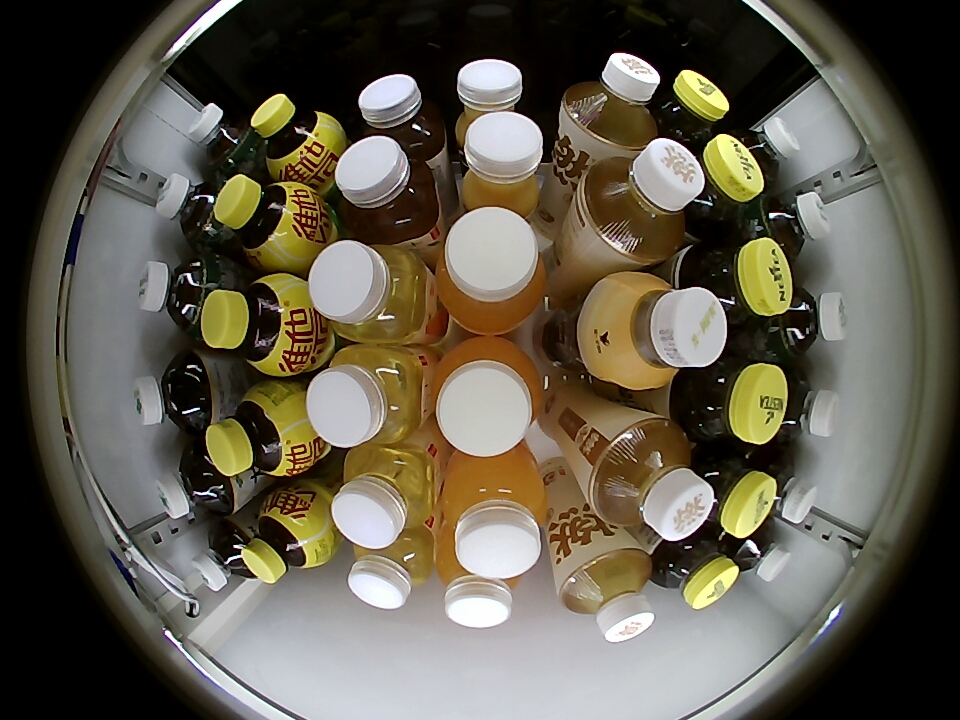asamu: (589, 272, 728, 389)
chacui: (671, 355, 788, 444), (678, 239, 793, 327), (682, 135, 762, 236), (692, 448, 776, 537), (650, 529, 739, 610), (651, 70, 729, 150)
chapai: (334, 136, 442, 244), (357, 74, 446, 161)
chapai2: (309, 240, 433, 344), (307, 345, 429, 448), (331, 444, 438, 549), (347, 527, 434, 610)
damaicha: (132, 351, 212, 433), (155, 446, 235, 520), (192, 520, 255, 591)
moliqingcha: (137, 254, 225, 336), (748, 191, 831, 263), (769, 285, 849, 359), (156, 173, 230, 249), (188, 102, 258, 173), (732, 118, 799, 189)
nfc: (456, 111, 547, 219), (453, 59, 531, 139)
rancha-2: (583, 415, 713, 542), (574, 138, 704, 265), (560, 51, 660, 153), (557, 543, 655, 643)
weic: (436, 207, 548, 334), (440, 449, 548, 579), (432, 338, 544, 457), (435, 538, 522, 628)
weitaningmeng-bottle: (201, 273, 311, 375), (206, 382, 312, 480), (214, 173, 316, 268), (242, 494, 331, 584), (251, 93, 339, 179)
wulongcha: (772, 367, 839, 445), (756, 454, 817, 525), (727, 523, 790, 583)
